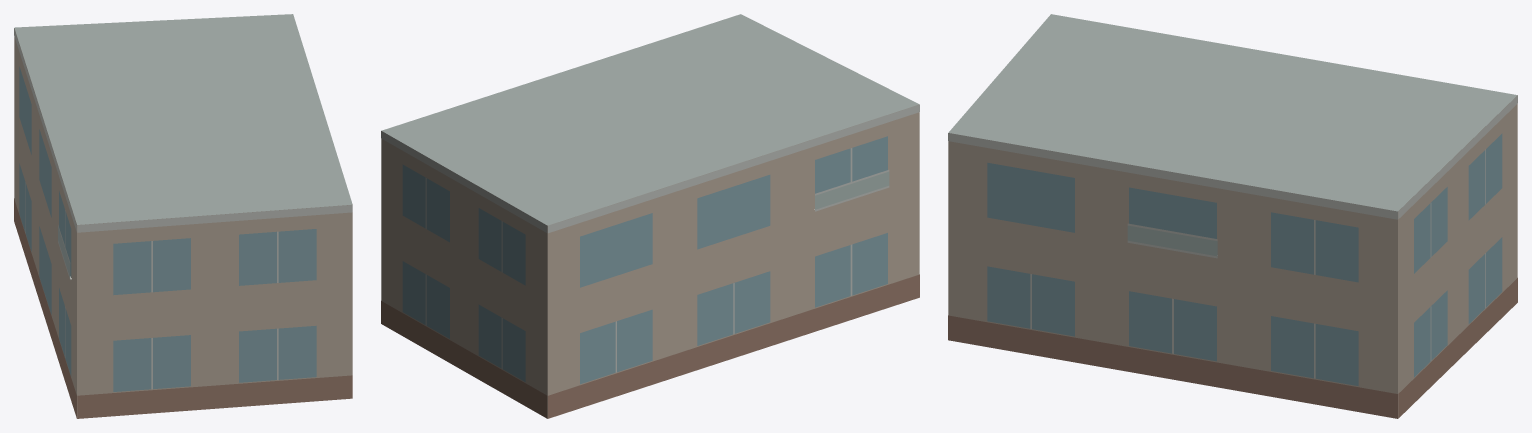
The model's file is survey-upis-32782529.glb.
The picture shows the model from 3 angles, left to right: view 1: azimuth 30°, elevation 25°; view 2: azimuth 150°, elevation 25°; view 3: azimuth 270°, elevation 25°; orthographic projection. The views are drawn at different scales.
Parts seen in each view (by area): view 1: survey-upis-32782529.tmp; view 2: survey-upis-32782529.tmp; view 3: survey-upis-32782529.tmp.
Part boxes in pixels (<box>): survey-upis-32782529.tmp: <box>14,14,352,418</box>; survey-upis-32782529.tmp: <box>381,14,919,418</box>; survey-upis-32782529.tmp: <box>948,14,1517,418</box>.
Bounding box in the file's own units: 12.47 × 6.1 × 15.19.
